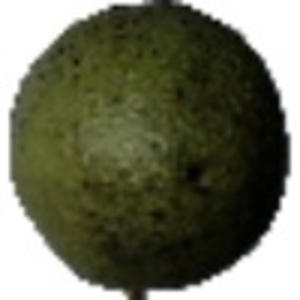abacate: (8, 2, 290, 291)
